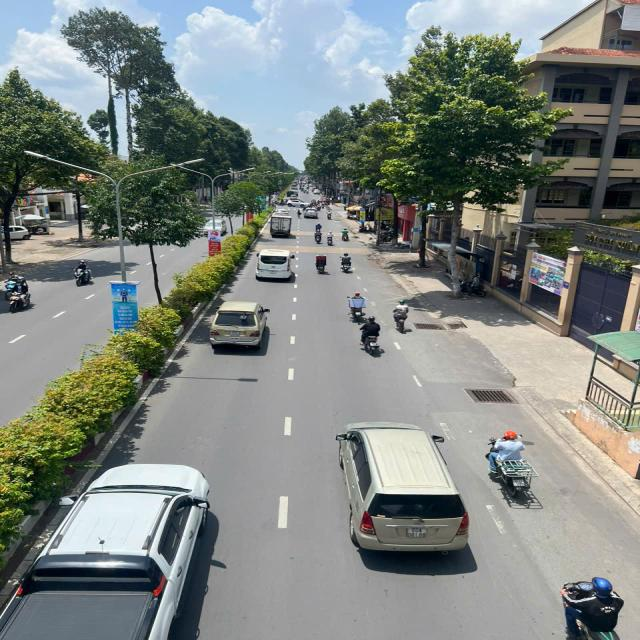Truck: (266, 206, 297, 240)
car: (11, 455, 221, 640), (329, 414, 478, 556), (206, 297, 274, 354), (250, 242, 300, 286), (302, 203, 321, 222)
motobyte: (554, 575, 630, 640), (484, 427, 544, 500), (356, 313, 389, 359), (387, 294, 420, 337), (339, 286, 373, 327), (7, 276, 40, 314), (66, 256, 98, 289), (311, 249, 334, 277), (336, 248, 358, 276), (339, 226, 353, 243), (312, 229, 326, 245), (324, 228, 335, 247)
